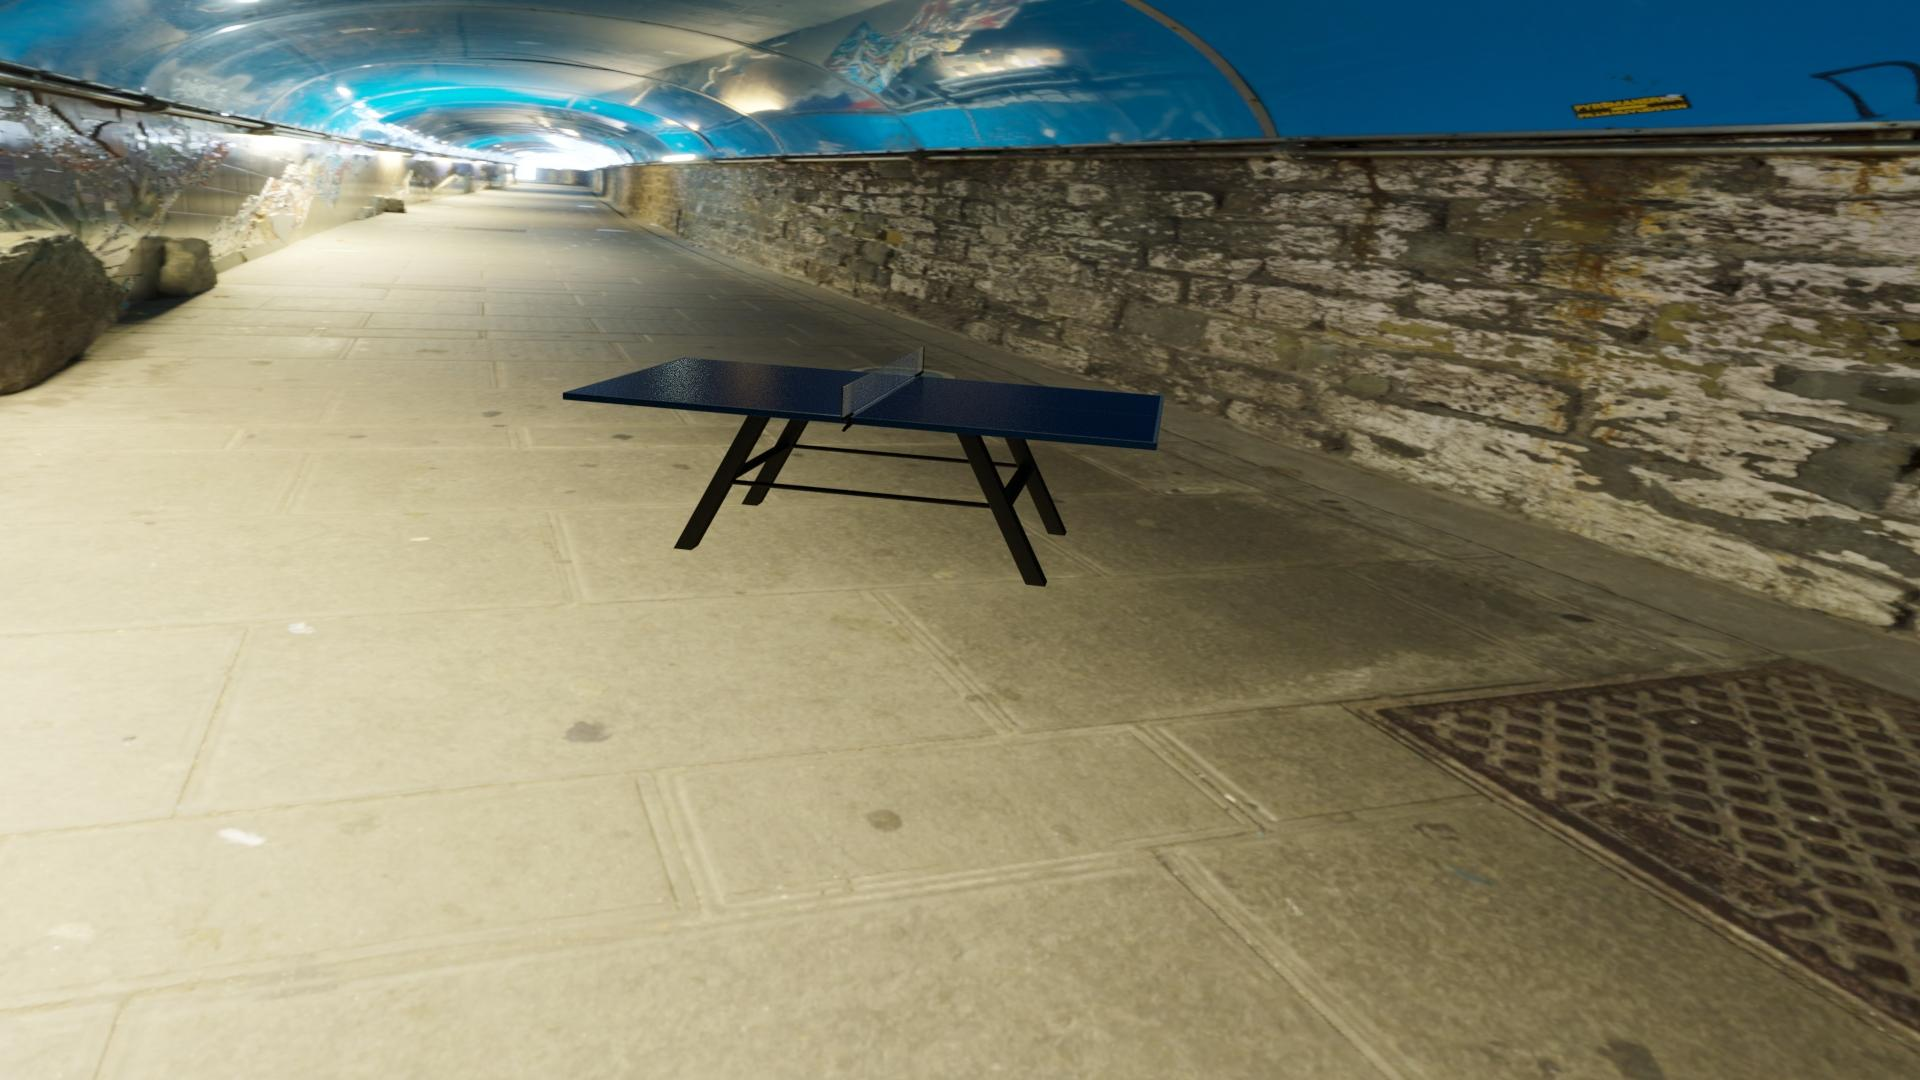table: (568, 359, 1160, 442)
